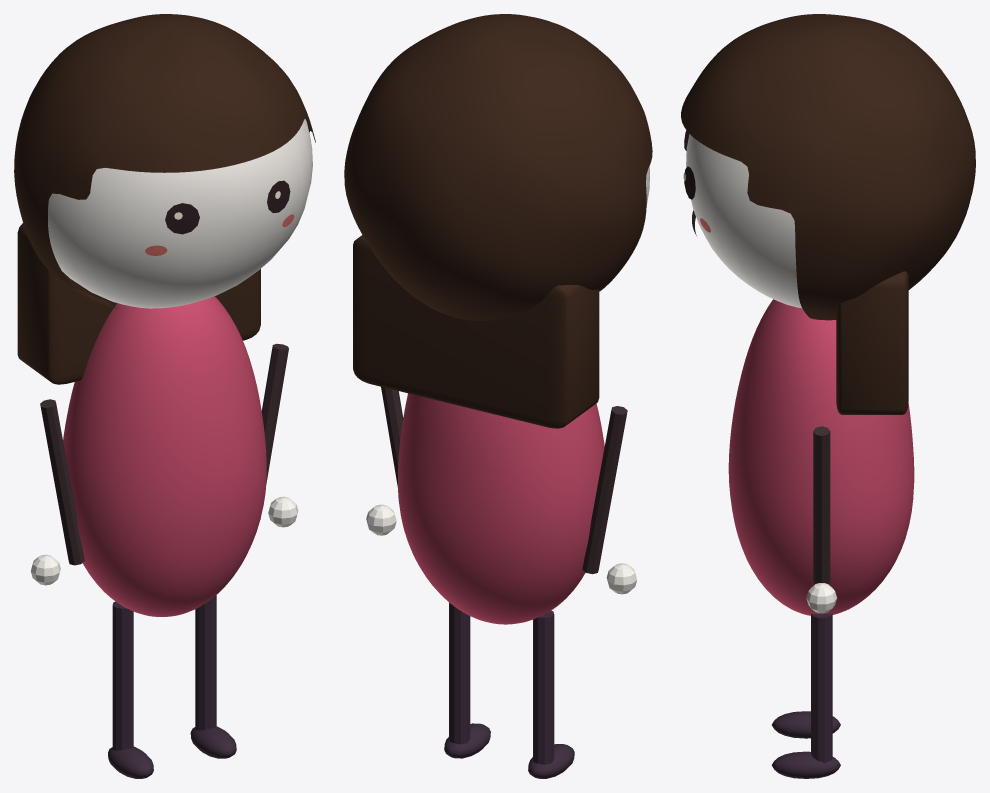
Rendered from ragazza_lunghi.glb.
3 renders of one model, left to right at view 1: azimuth 30°, elevation 25°; view 2: azimuth 150°, elevation 25°; view 3: azimuth 270°, elevation 25°, orthographic.
Visible parts, largest first — view 1: corpo, capelli, testa, capelli_lunghi, gamba_L, gamba_R, braccio_L, braccio_R, viso_ink, piede_R, piede_L, mano_R (+1 smaller); view 2: capelli, corpo, capelli_lunghi, gamba_L, gamba_R, braccio_L, braccio_R, piede_R, piede_L, mano_R, mano_L; view 3: capelli, corpo, testa, capelli_lunghi, gamba_R, braccio_R, piede_R, piede_L, mano_R.
Boxes of the visible parts, box(x1,y1,x2,y2) form: corpo: box(63, 296, 266, 616); capelli: box(14, 14, 315, 308); testa: box(48, 119, 312, 308); capelli_lunghi: box(17, 223, 260, 384); gamba_L: box(112, 601, 133, 750); gamba_R: box(195, 595, 216, 730); braccio_L: box(40, 399, 84, 565); braccio_R: box(260, 343, 288, 519); viso_ink: box(165, 180, 290, 234); piede_R: box(190, 726, 236, 758); piede_L: box(108, 746, 153, 778); mano_R: box(268, 496, 298, 527); capelli: box(344, 14, 652, 321); corpo: box(397, 393, 604, 624); capelli_lunghi: box(353, 235, 599, 428); gamba_L: box(533, 610, 554, 777); gamba_R: box(449, 602, 470, 758); braccio_L: box(582, 406, 627, 574); braccio_R: box(381, 387, 403, 485); piede_R: box(444, 723, 490, 758); piede_L: box(528, 744, 574, 778); mano_R: box(366, 504, 396, 535); mano_L: box(606, 563, 636, 594); capelli: box(681, 14, 975, 320); corpo: box(728, 299, 914, 615); testa: box(686, 134, 801, 308); capelli_lunghi: box(836, 271, 908, 414); gamba_R: box(811, 613, 832, 776); braccio_R: box(813, 426, 830, 583); piede_R: box(771, 751, 840, 778); piede_L: box(772, 711, 840, 738); mano_R: box(806, 583, 836, 613).
Size of what is drawn, in the model's own units: 0.7928 by 2.09 by 0.7645.
